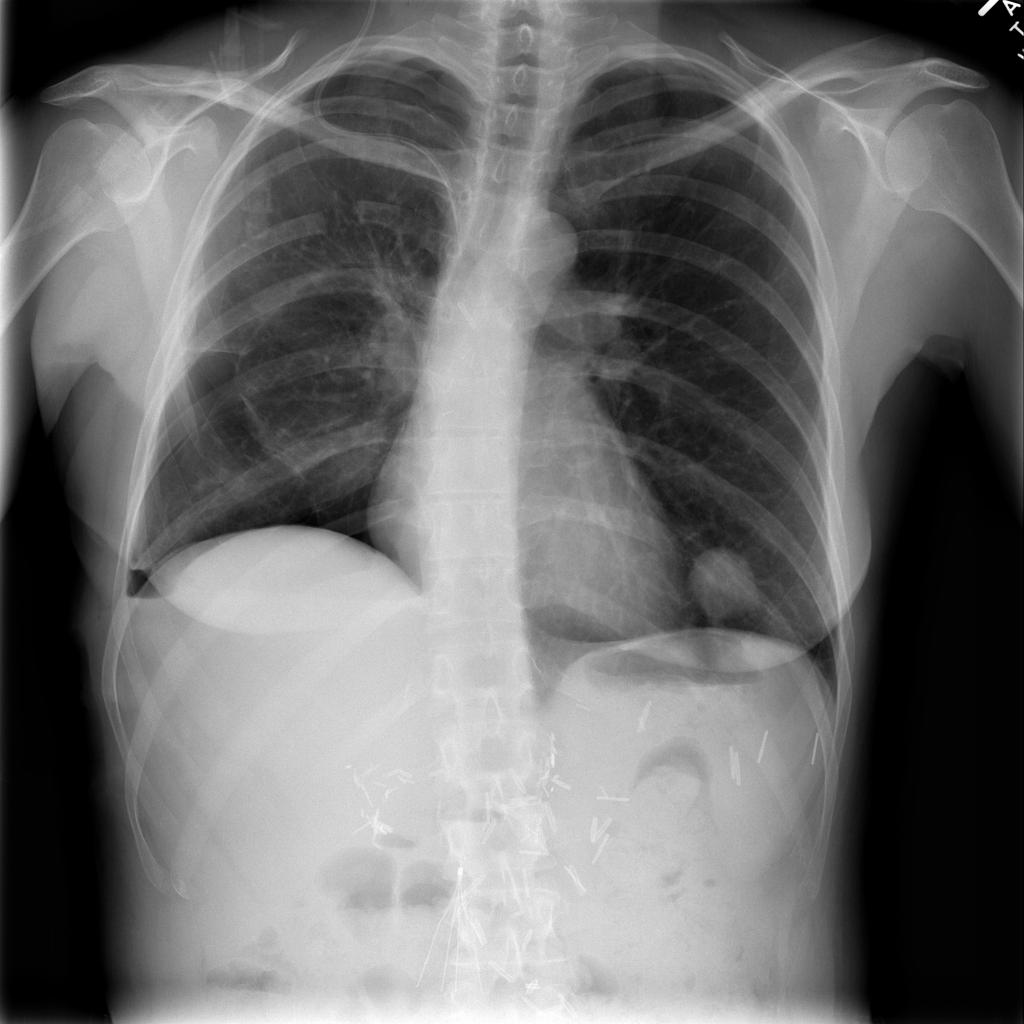nodule: (674, 533, 783, 633)
